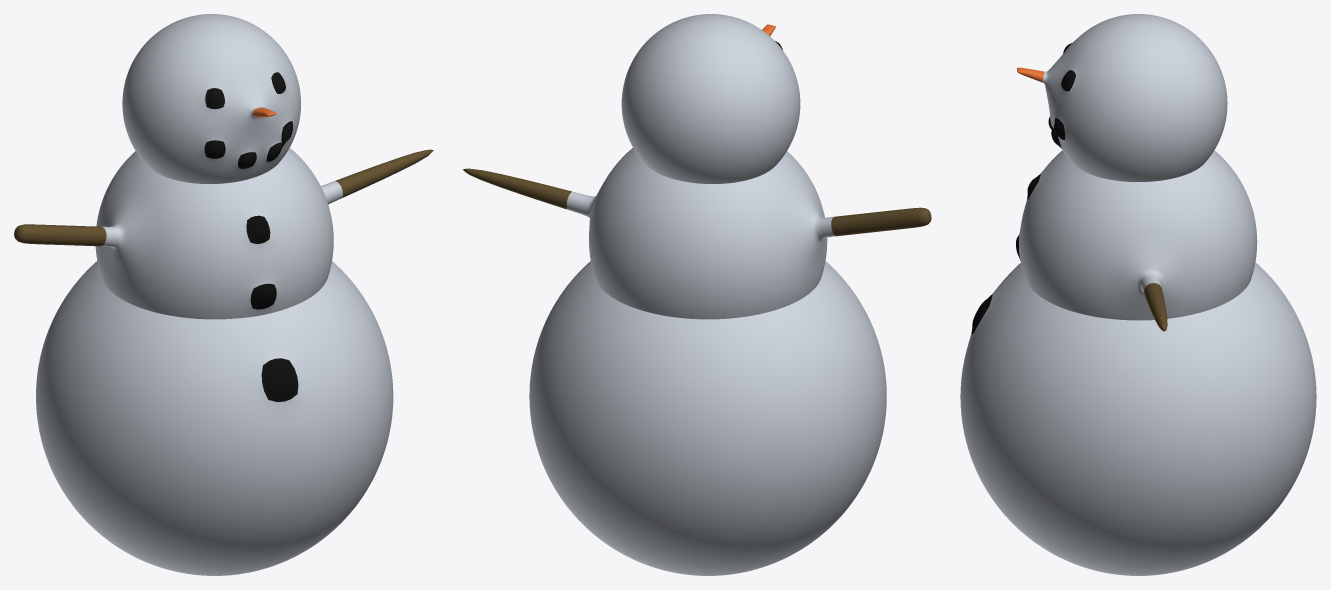
Rendered from Molson_Snowman.fbx.
The picture shows the model from 3 angles, left to right: view 1: azimuth 30°, elevation 25°; view 2: azimuth 150°, elevation 25°; view 3: azimuth 270°, elevation 25°; orthographic projection.
Parts seen in each view (by area): view 1: Sphere.003; view 2: Sphere.003; view 3: Sphere.003.
Boxes of the visible parts, x1,y1,x2,y2 form: Sphere.003: [14, 14, 433, 575]; Sphere.003: [462, 14, 931, 575]; Sphere.003: [960, 14, 1316, 575].
Size of the model in its own units: 424 by 492 by 296.
